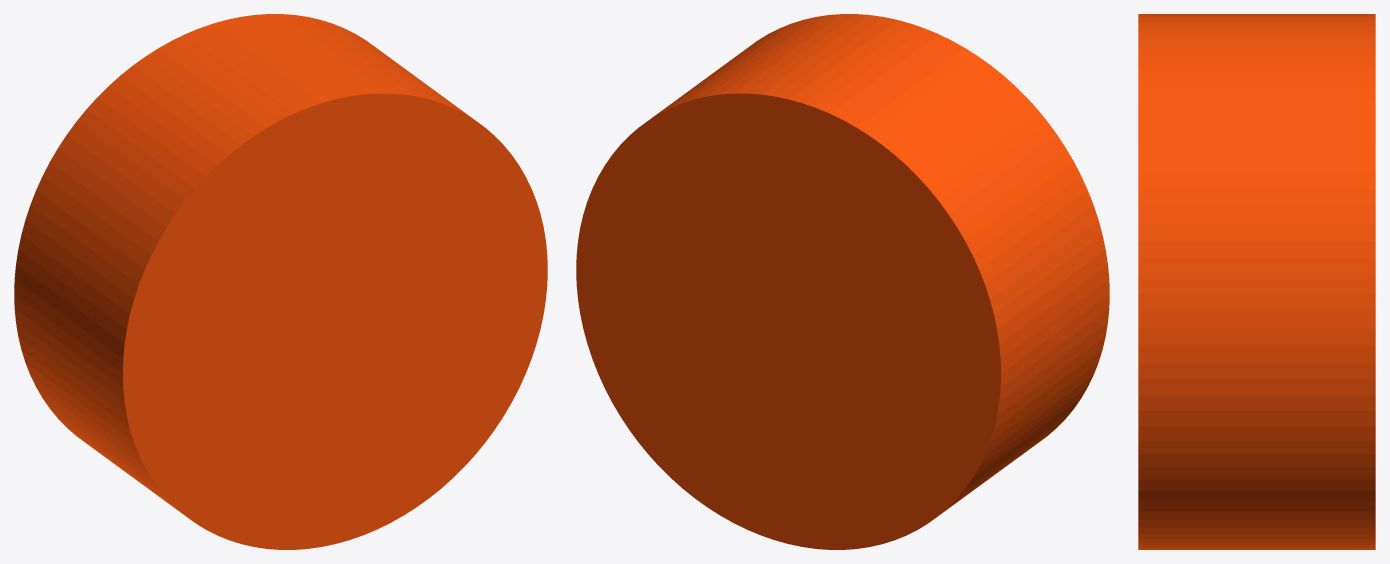
File: right_hub.dae
3 views of the same model, side by side, from view 1: azimuth 30°, elevation 25°; view 2: azimuth 150°, elevation 25°; view 3: azimuth 270°, elevation 25° (orthographic). The views are drawn at different scales.
Visible parts, largest first — view 1: right_hub; view 2: right_hub; view 3: right_hub.
Part boxes in pixels (<box>): right_hub: <box>14,14,547,549</box>; right_hub: <box>576,14,1109,549</box>; right_hub: <box>1138,14,1375,549</box>.
Bounding box in the file's own units: 0.028 × 0.0124 × 0.028.
